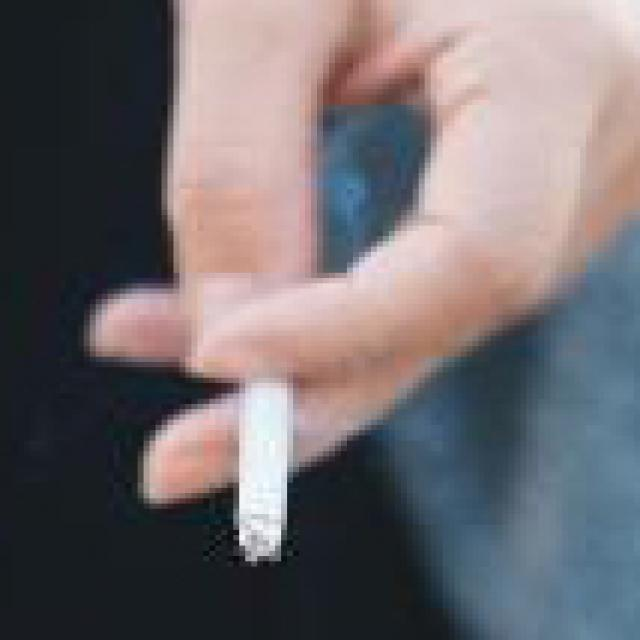smoking: (234, 276, 290, 568)
